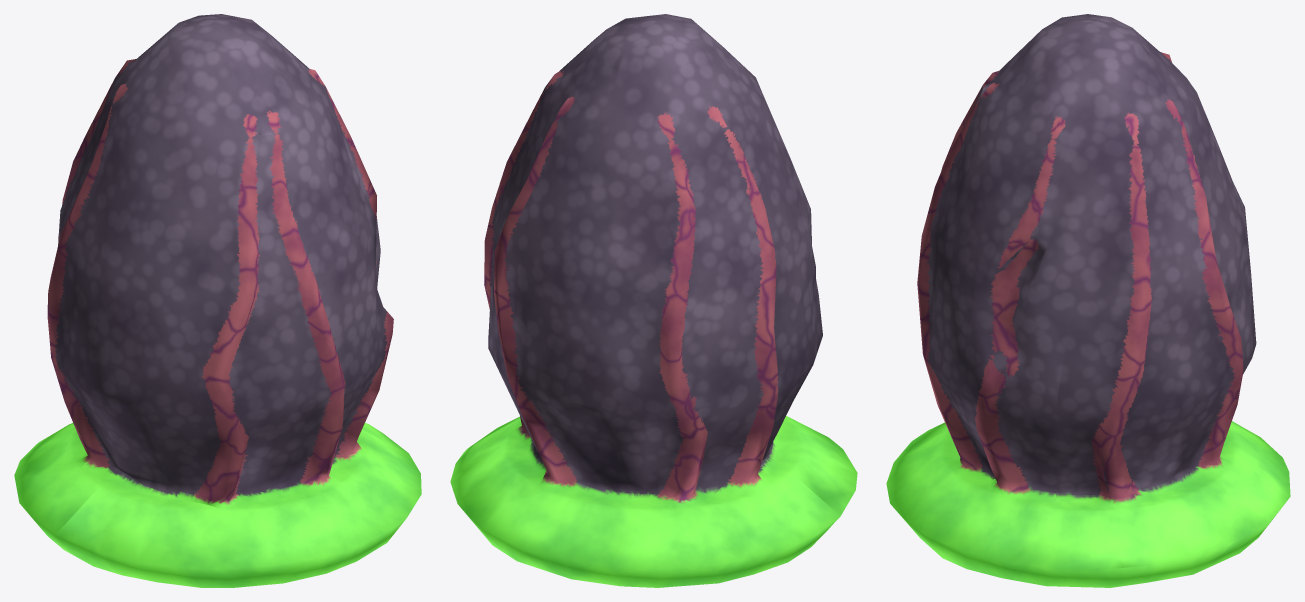
File: huevo_monstruo.fbx
3 renders of one model, left to right at view 1: azimuth 30°, elevation 25°; view 2: azimuth 150°, elevation 25°; view 3: azimuth 270°, elevation 25°, orthographic.
Visible parts, largest first — view 1: huevo; view 2: huevo; view 3: huevo.
Boxes of the visible parts, box(x1,y1,x2,y2) form: huevo: box(14, 14, 421, 587); huevo: box(450, 14, 857, 587); huevo: box(886, 14, 1290, 587).
Bounding box in the file's own units: 1.5 × 2 × 1.5.
Materials: 1 (1 with a texture image).
